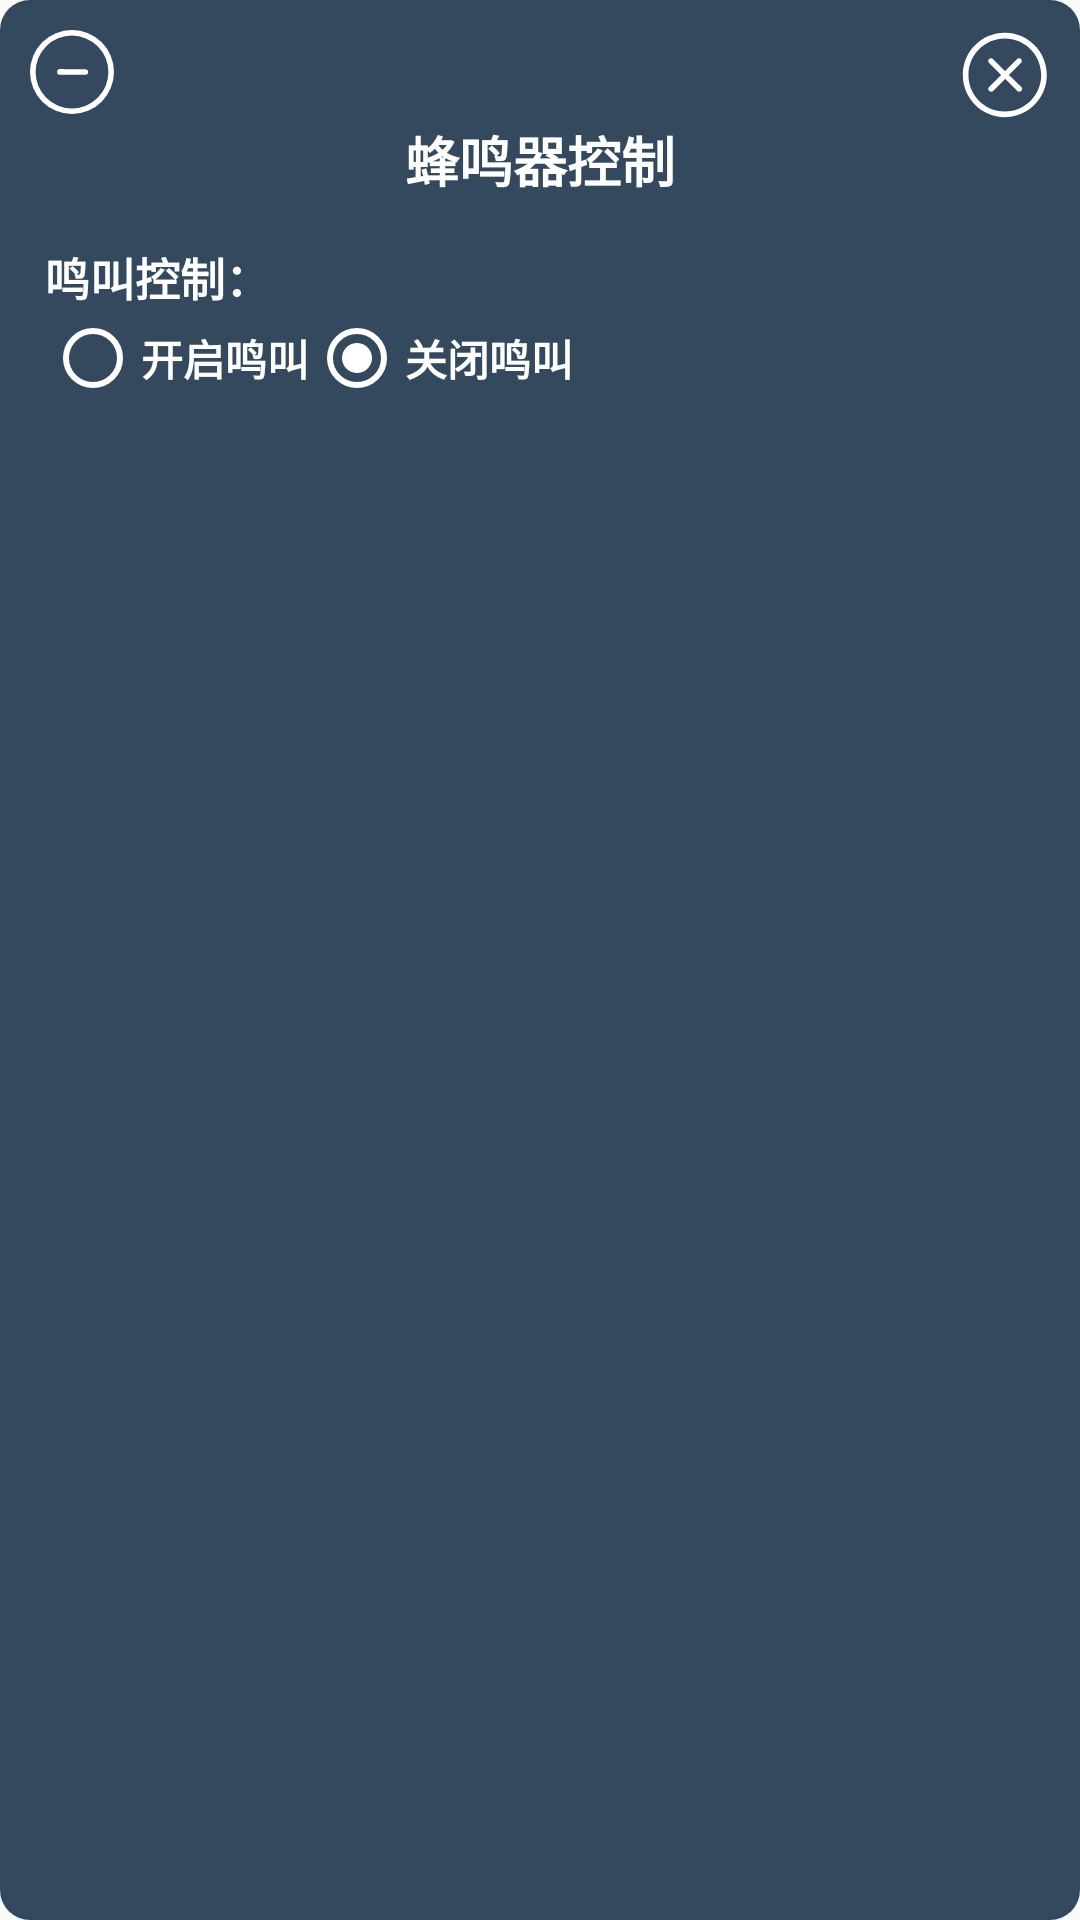

Where to tap for icons on this 1080 x 1920 app screen, as point (x, y):
minimize: point (72, 72)
关闭悬浮窗: point (1004, 75)
